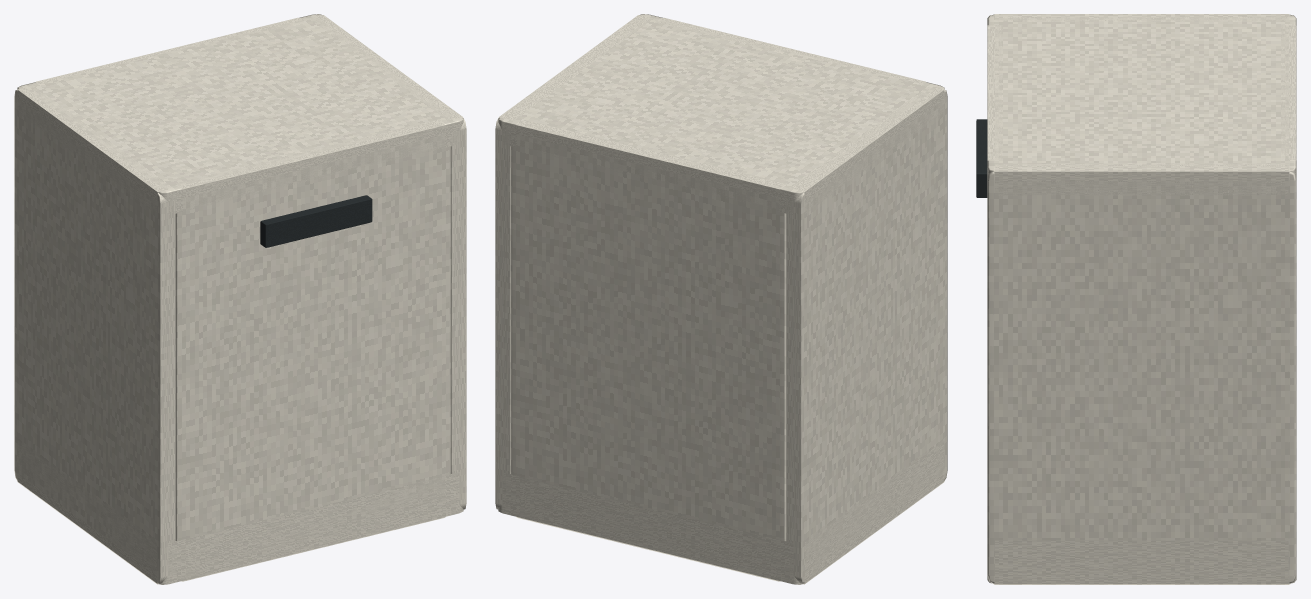
Rendered from waste-bin.glb.
3 renders of one model, left to right at view 1: azimuth 30°, elevation 25°; view 2: azimuth 150°, elevation 25°; view 3: azimuth 270°, elevation 25°, orthographic. The views are drawn at different scales.
Visible parts, largest first — view 1: edge (×2), side (×2), lid, bottom, grip; view 2: edge (×2), side (×2), lid, bottom; view 3: side (×2), lid, bottom, edge (×2), grip.
Part boxes in pixels (x1,y1,x2,y2): edge (×2): [36, 17, 451, 581]; side (×2): [14, 15, 466, 584]; lid: [17, 14, 463, 213]; bottom: [17, 441, 463, 584]; grip: [260, 195, 372, 247]; edge (×2): [510, 17, 925, 581]; side (×2): [495, 15, 947, 584]; lid: [498, 14, 944, 214]; bottom: [498, 441, 944, 584]; side (×2): [987, 14, 1296, 584]; lid: [987, 14, 1296, 195]; bottom: [987, 540, 1296, 583]; edge (×2): [987, 25, 1296, 160]; grip: [976, 119, 987, 197].
Bounding box in the file's own units: 0.53 × 0.65 × 0.4554.
2 materials, 2 textured.
